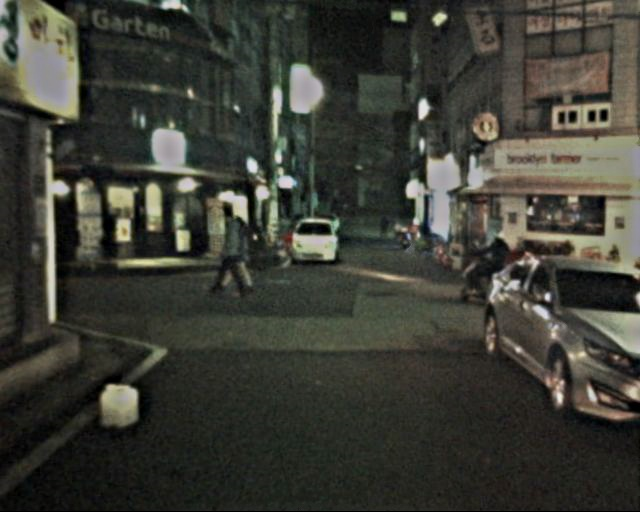person: (213, 212, 251, 300), (481, 233, 513, 310)
